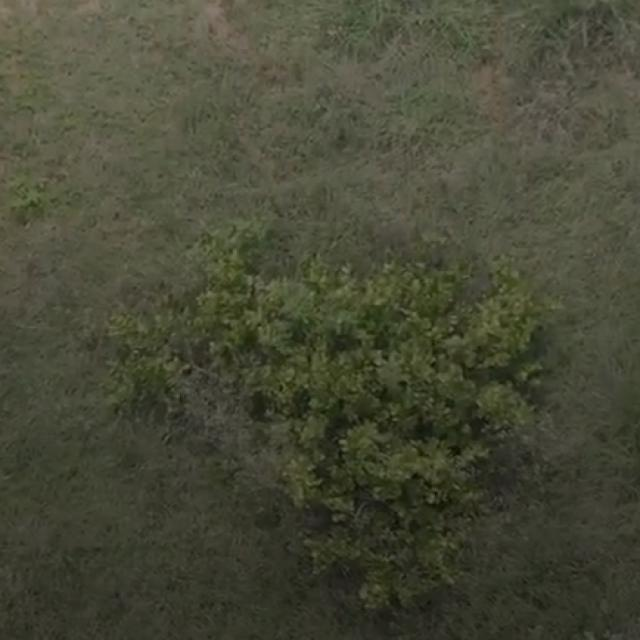notMangoTree: (100, 221, 564, 623)
